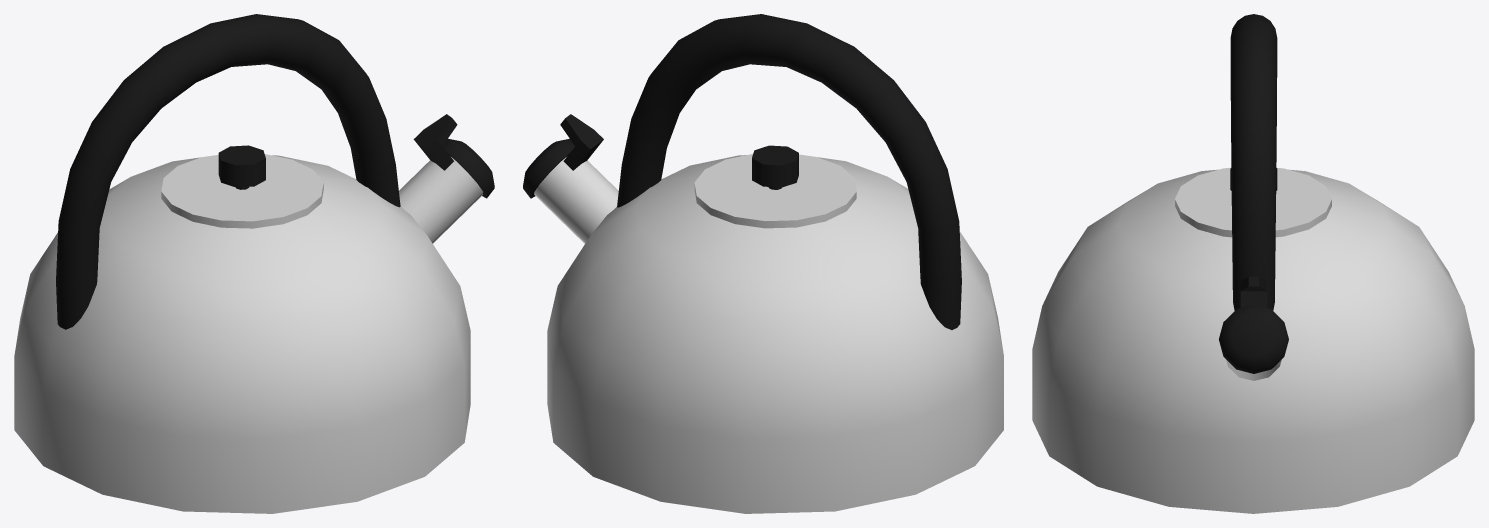
File: Teapot.fbx
3 renders of one model, left to right at view 1: azimuth 30°, elevation 25°; view 2: azimuth 150°, elevation 25°; view 3: azimuth 270°, elevation 25°, orthographic. The views are drawn at different scales.
Parts seen in each view (by area): view 1: Teapot; view 2: Teapot; view 3: Teapot.
Part boxes in pixels (x1,y1,x2,y2): Teapot: (14, 14, 494, 513); Teapot: (523, 14, 1003, 513); Teapot: (1032, 14, 1474, 513).
Bounding box in the file's own units: 25.24 × 21.62 × 22.6.
